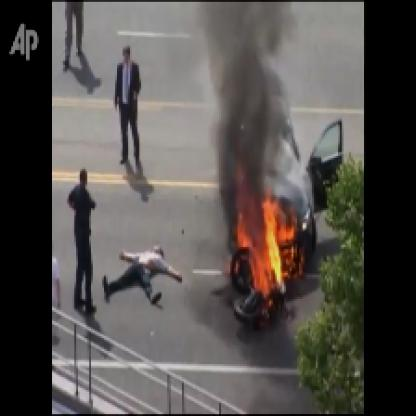Fire: (228, 180, 299, 297)
Smoke: (200, 2, 288, 208)
